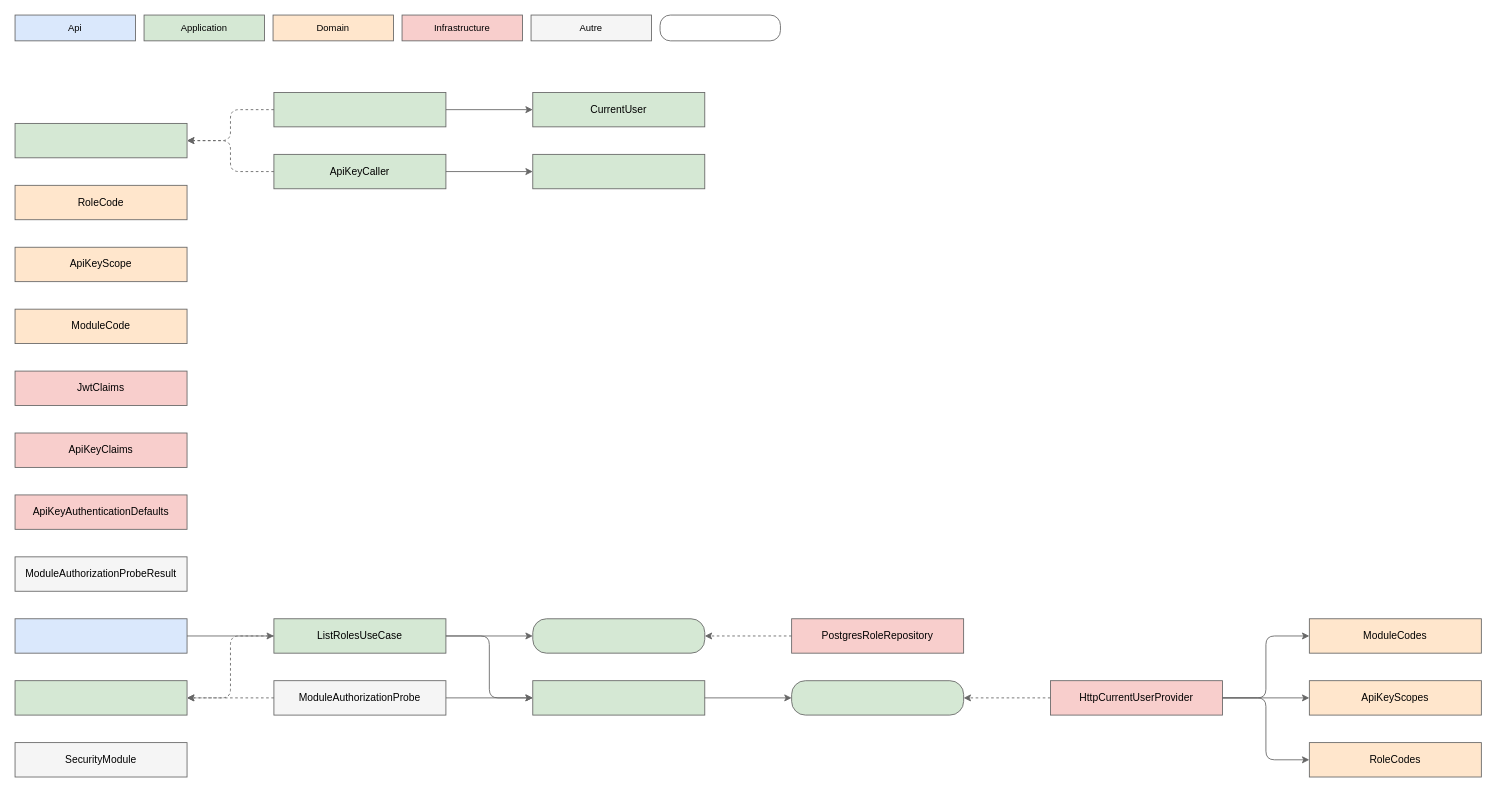
Some shapes in this 1496 by 792 pixel diagram are drawn without their labels. The box of each missing label's shape, as (x1, y1, x2, y2) in pixels:
Caller: (14, 123, 187, 158)
CurrentApiKey: (532, 154, 705, 189)
ICurrentUserProvider: (791, 680, 964, 715)
IRoleRepository: (532, 618, 705, 653)
Port (interface): (659, 14, 780, 41)
RolesController: (14, 618, 187, 653)
SecuredUseCase: (14, 680, 187, 715)
UseCaseAuthorizer: (532, 680, 705, 715)
UserCaller: (273, 92, 446, 127)
